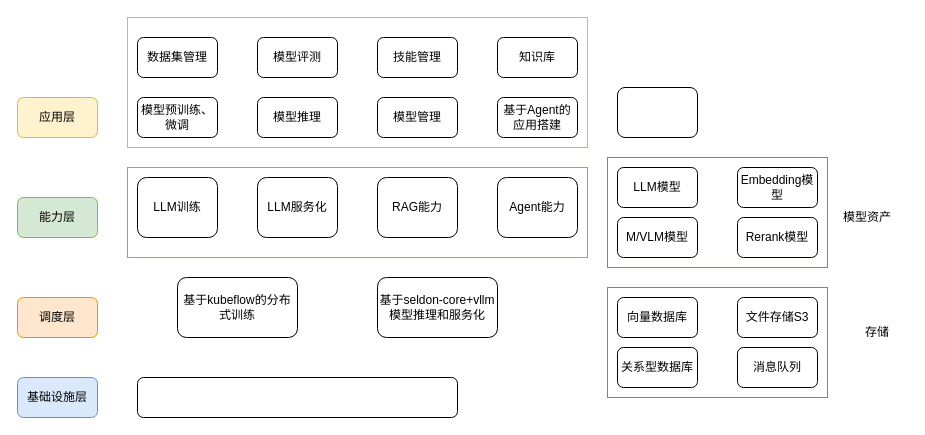
Some shapes in this 925 by 435 pixel diagram are drawn without their labels. The shapes that lost their labels are listed below. From the top down, each one's centre as x and y in pixels, then its label:
[657,112]: LLM 可观测能力
[297,397]: 基于k8s的云平台：资源池化、GPU虚拟化
